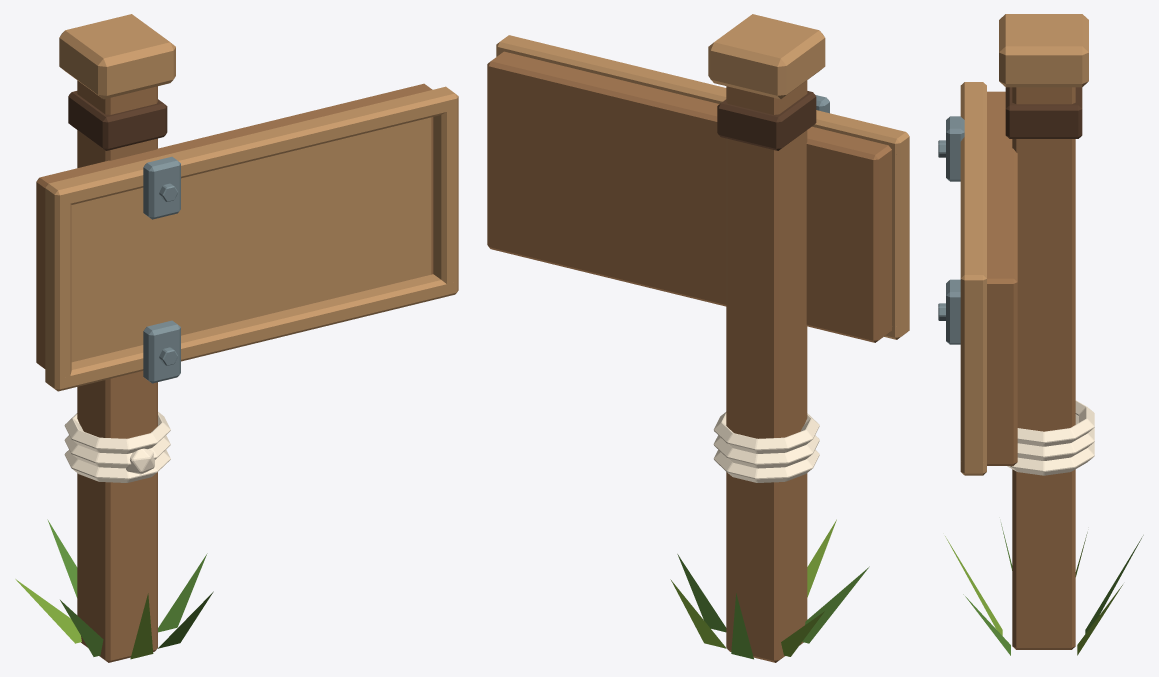
File: signpost.glb
3 renders of one model, left to right at view 1: azimuth 30°, elevation 25°; view 2: azimuth 150°, elevation 25°; view 3: azimuth 270°, elevation 25°, orthographic.
Visible parts, largest first — view 1: Sign board face.001, Square sign post.001, Raised sign frame top.001, Raised sign frame bottom.001, Bevelled post cap.001, Sign backing.001, Raised sign frame side.002, Raised sign frame side.003, Dark post top band.001, Board metal bracket.003, Board metal bracket.002, Post rope lashing wrap 2.001 (+6 smaller); view 2: Sign backing.001, Square sign post.001, Bevelled post cap.001, Raised sign frame top.001, Dark post top band.001, Raised sign frame side.002, Post rope lashing wrap 2.001, Post rope lashing wrap 0.001, Post rope lashing wrap 1.001, Grass blade.007, Grass blade.011, Grass blade.009 (+1 smaller); view 3: Square sign post.001, Sign backing.001, Bevelled post cap.001, Raised sign frame top.001, Raised sign frame side.003, Dark post top band.001, Post rope lashing wrap 2.001, Post rope lashing wrap 0.001, Post rope lashing wrap 1.001, Board metal bracket.003, Board metal bracket.002, Grass blade.012 (+2 smaller).
Boxes of the visible parts, <box> form: Sign board face.001: <box>71,117,431,362</box>; Square sign post.001: <box>77,80,157,662</box>; Raised sign frame top.001: <box>45,86,458,206</box>; Raised sign frame bottom.001: <box>45,274,458,391</box>; Bevelled post cap.001: <box>59,14,175,99</box>; Sign backing.001: <box>36,83,433,368</box>; Raised sign frame side.002: <box>45,199,71,378</box>; Raised sign frame side.003: <box>433,107,458,283</box>; Dark post top band.001: <box>68,91,167,150</box>; Board metal bracket.003: <box>143,156,180,219</box>; Board metal bracket.002: <box>143,320,180,383</box>; Post rope lashing wrap 2.001: <box>64,412,170,453</box>; Sign backing.001: <box>487,51,891,342</box>; Square sign post.001: <box>726,80,807,662</box>; Bevelled post cap.001: <box>708,14,825,99</box>; Raised sign frame top.001: <box>496,35,909,154</box>; Dark post top band.001: <box>717,91,816,150</box>; Raised sign frame side.002: <box>892,147,909,326</box>; Post rope lashing wrap 2.001: <box>713,412,819,453</box>; Post rope lashing wrap 0.001: <box>713,449,819,482</box>; Post rope lashing wrap 1.001: <box>713,435,819,468</box>; Grass blade.007: <box>677,554,726,632</box>; Grass blade.011: <box>802,566,869,643</box>; Grass blade.009: <box>731,593,753,659</box>; Square sign post.001: <box>1012,87,1075,649</box>; Sign backing.001: <box>987,91,1017,465</box>; Bevelled post cap.001: <box>999,14,1088,87</box>; Raised sign frame top.001: <box>960,82,986,291</box>; Raised sign frame side.003: <box>960,289,986,462</box>; Dark post top band.001: <box>1005,87,1082,138</box>; Post rope lashing wrap 2.001: <box>1017,400,1094,446</box>; Post rope lashing wrap 0.001: <box>1007,442,1094,475</box>; Post rope lashing wrap 1.001: <box>1017,416,1094,460</box>; Board metal bracket.003: <box>946,116,964,181</box>; Board metal bracket.002: <box>946,279,960,344</box>; Grass blade.012: <box>945,536,1002,635</box>.
Bounding box in the file's own units: 1.75 × 2.54 × 0.7797.
